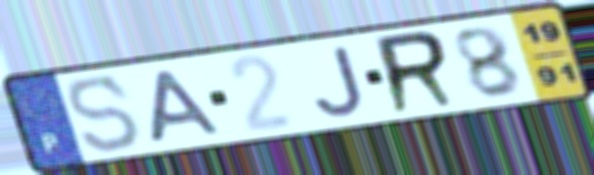2: (227, 52, 298, 136)
8: (452, 24, 523, 100)
A: (147, 67, 227, 145)
J: (310, 43, 369, 119)
R: (371, 28, 463, 119)
S: (64, 73, 146, 156)
